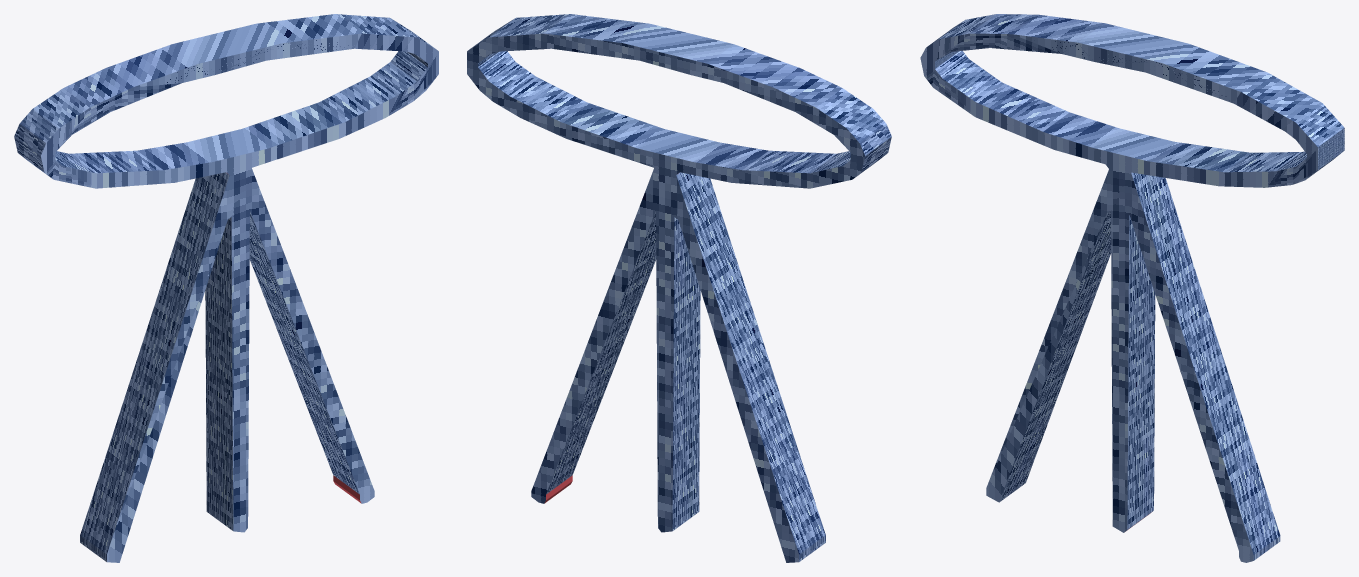
The model's file is demo.glb.
The picture shows the model from 3 angles, left to right: view 1: azimuth 30°, elevation 25°; view 2: azimuth 150°, elevation 25°; view 3: azimuth 330°, elevation 25°; orthographic projection.
Bounding box in the file's own units: 0.0551 × 0.0635 × 0.0064.
1 material, 1 textured.
